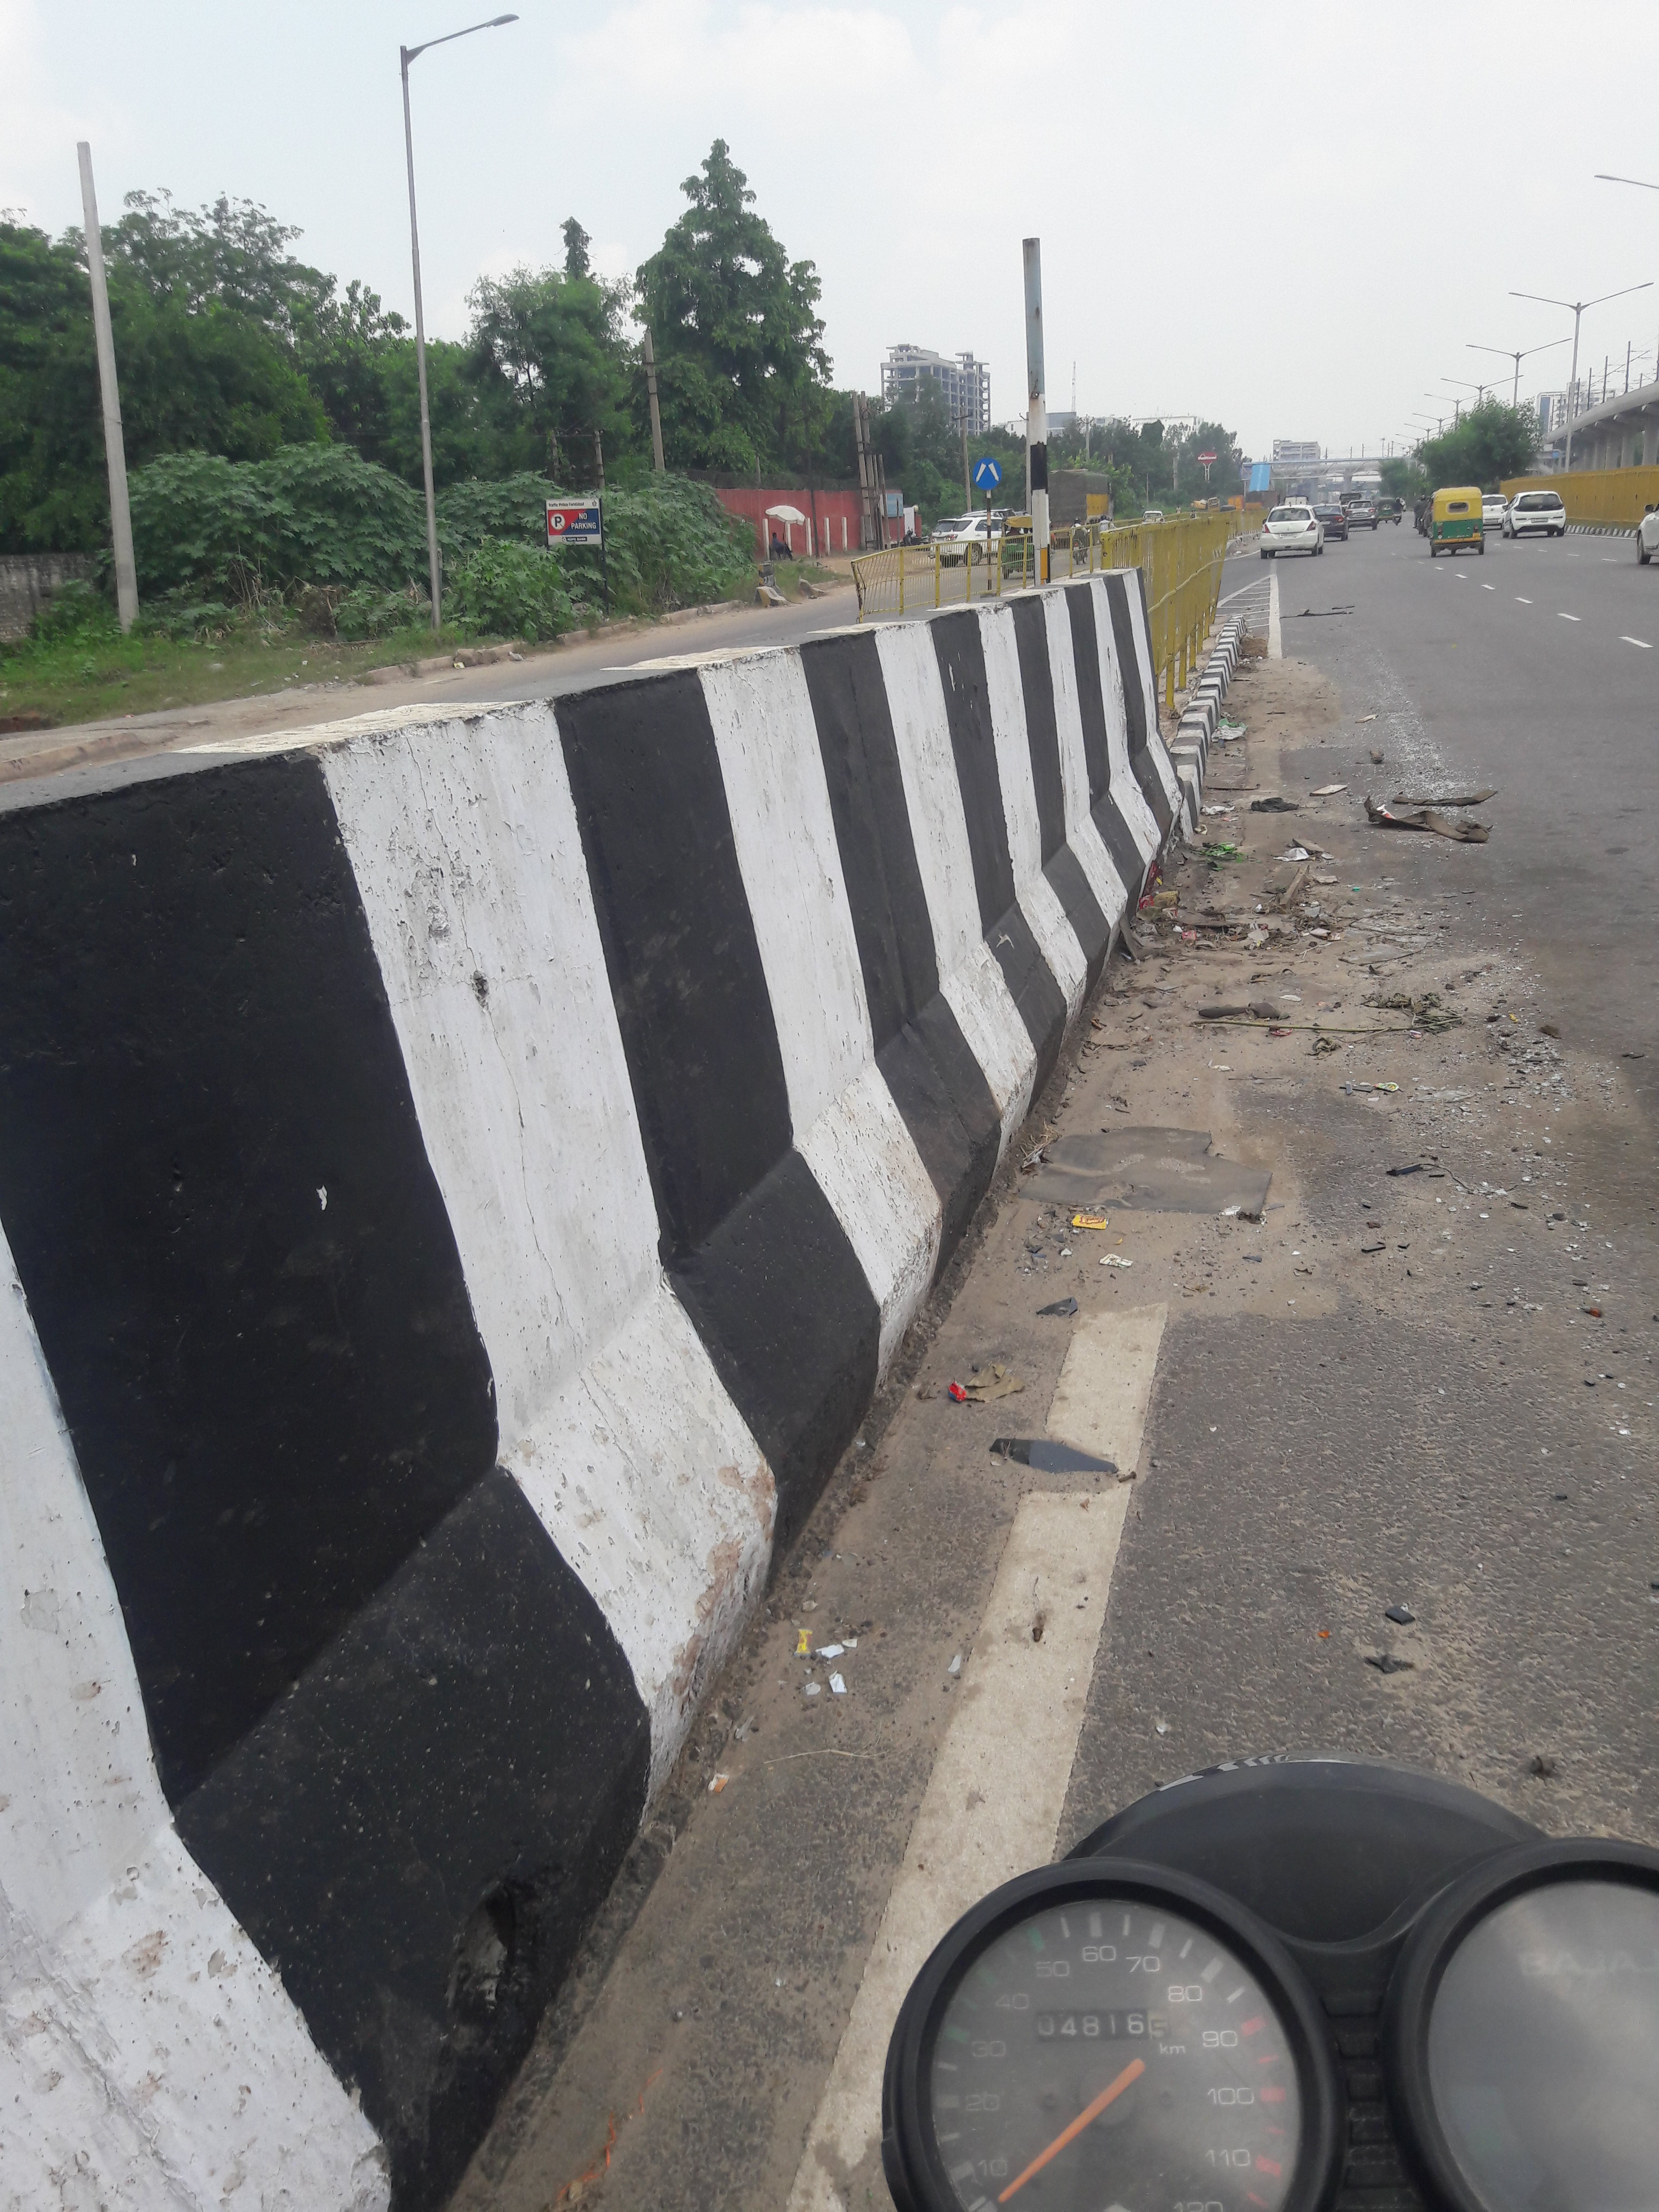traffic_sign: (544, 498, 606, 547), (972, 456, 1000, 491)
